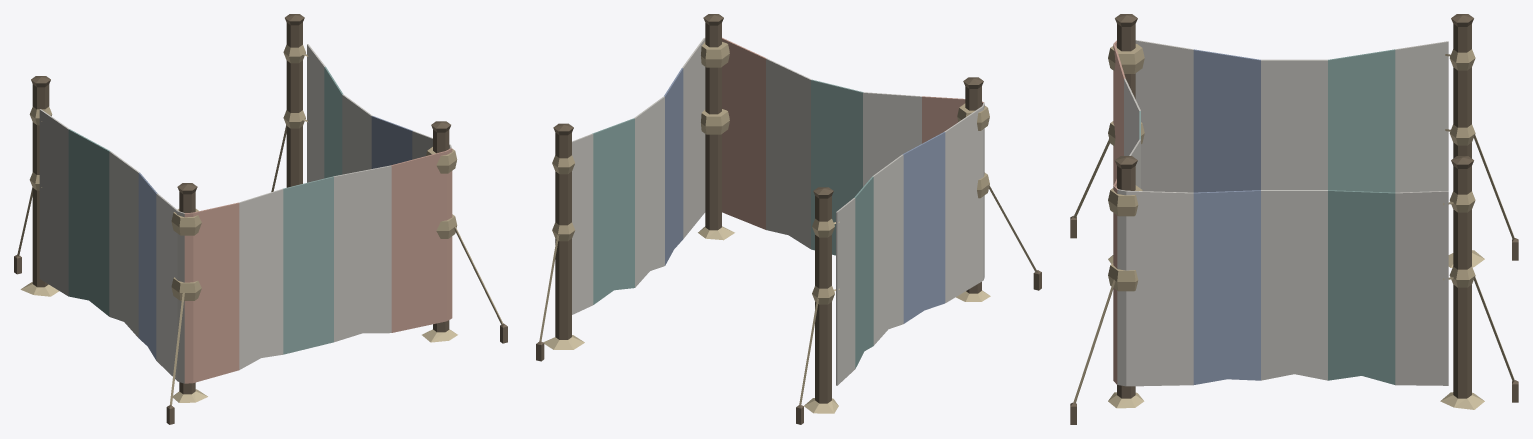
Rendered from beach-windbreak-090d8c.glb.
3 views of the same model, side by side, from view 1: azimuth 30°, elevation 25°; view 2: azimuth 150°, elevation 25°; view 3: azimuth 270°, elevation 25° (orthographic). The views are drawn at different scales.
Visible parts, largest first — view 1: beach-windbreak-090d8c; view 2: beach-windbreak-090d8c; view 3: beach-windbreak-090d8c.
Part boxes in pixels (<box>): beach-windbreak-090d8c: <box>14,14,507,424</box>; beach-windbreak-090d8c: <box>536,14,1041,424</box>; beach-windbreak-090d8c: <box>1070,14,1518,424</box>.
Bounding box in the file's own units: 2 × 1.2 × 2.
